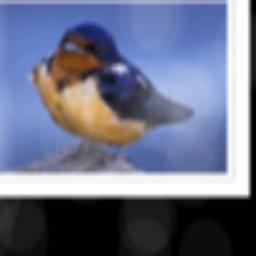Swallow: (26, 18, 220, 170)
